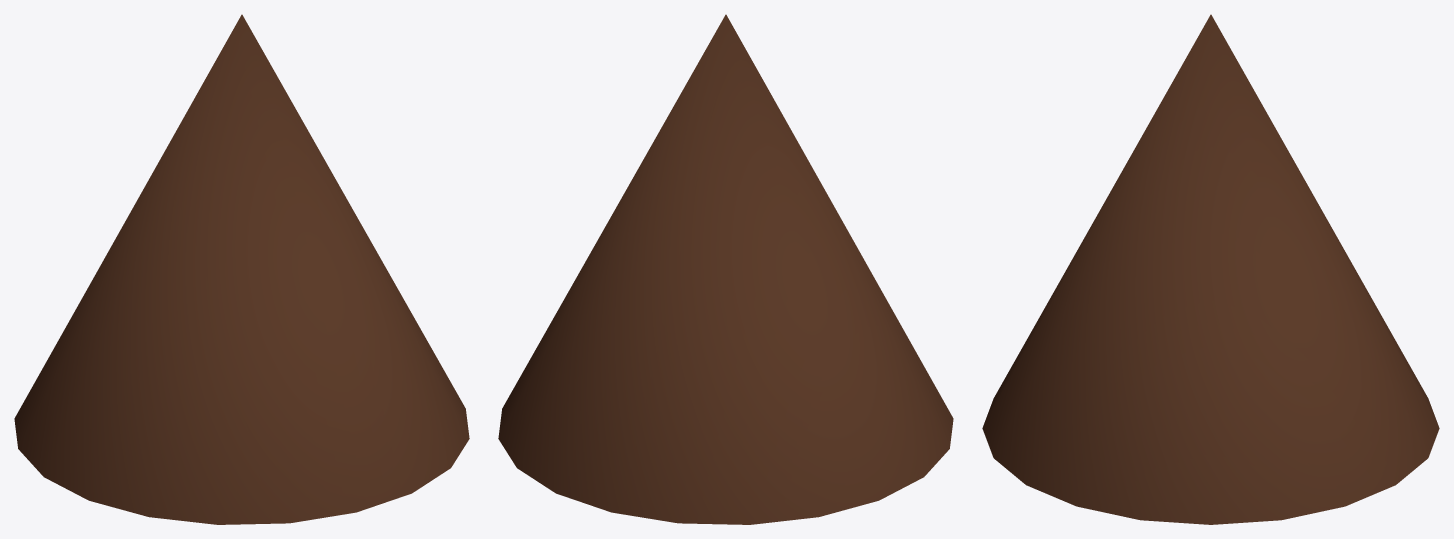
The model's file is 64064627-f2ce-4ea2-99f3-c0fcd98c0d17.glb.
3 renders of one model, left to right at view 1: azimuth 30°, elevation 25°; view 2: azimuth 150°, elevation 25°; view 3: azimuth 270°, elevation 25°, orthographic.
Parts seen in each view (by area): view 1: BaseCone.010; view 2: BaseCone.010; view 3: BaseCone.010.
Boxes of the visible parts, x1,y1,x2,y2 form: BaseCone.010: [14, 14, 469, 524]; BaseCone.010: [498, 14, 953, 524]; BaseCone.010: [982, 14, 1439, 524].
Size of what is drawn, in the model's own units: 0.7487 by 0.7487 by 0.7487.
Materials: 1 (1 with a texture image).
